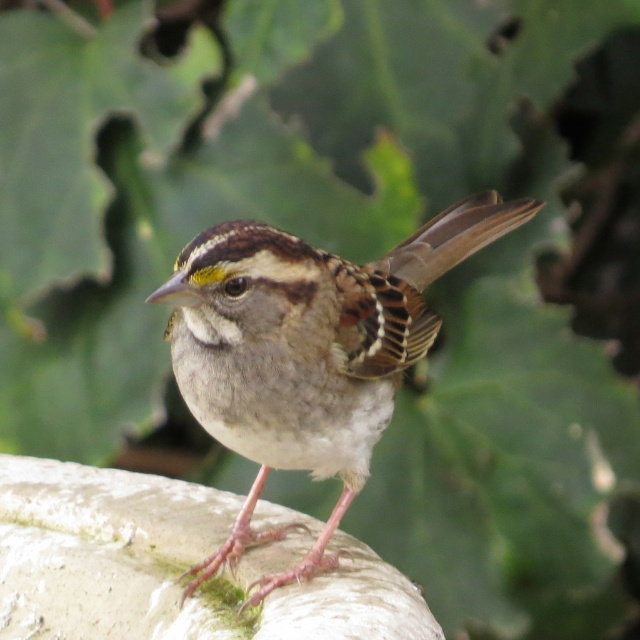Sparrow: (136, 185, 550, 616)
